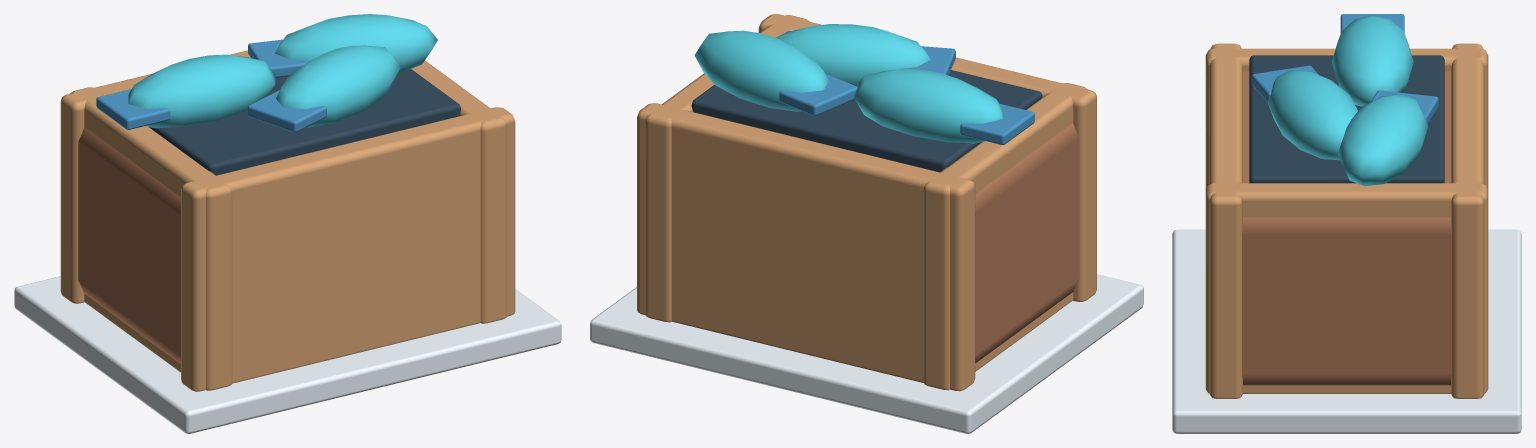
The model's file is fish_crate.glb.
3 renders of one model, left to right at view 1: azimuth 30°, elevation 25°; view 2: azimuth 150°, elevation 25°; view 3: azimuth 270°, elevation 25°, orthographic.
Parts seen in each view (by area): view 1: fish_crate; view 2: fish_crate; view 3: fish_crate.
Part boxes in pixels (left/top/right/bottom): fish_crate: left=14, top=14, right=561, bottom=433; fish_crate: left=590, top=14, right=1143, bottom=433; fish_crate: left=1172, top=14, right=1521, bottom=433.
Size of the model in its own units: 1.7 by 1.18 by 1.36.
